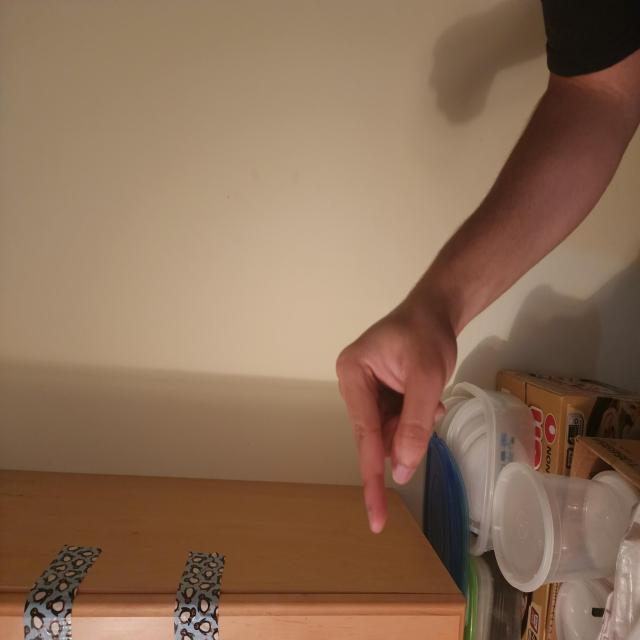Z: (74, 441, 290, 618)
